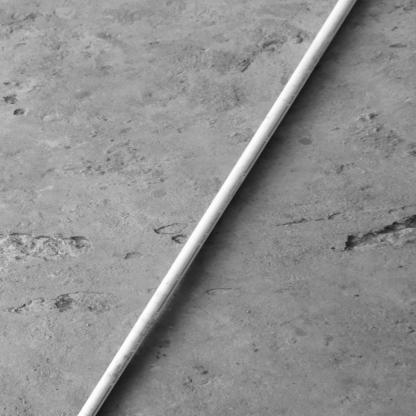PVC: (77, 2, 355, 416)
